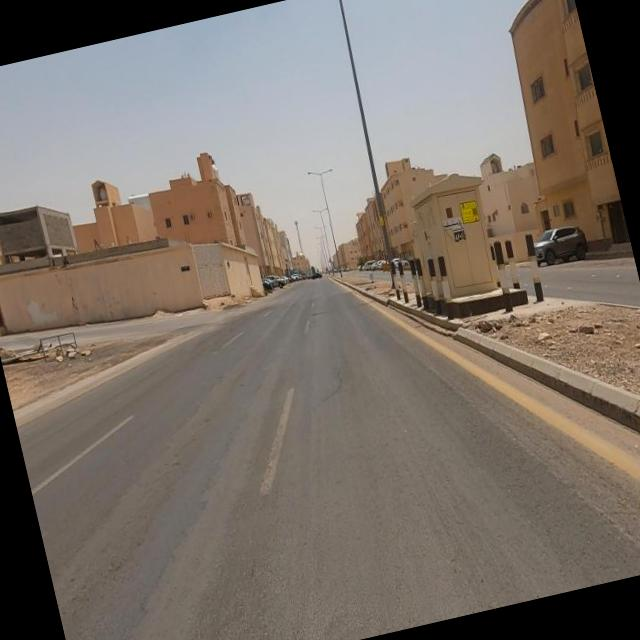debris: (0, 289, 110, 404)
